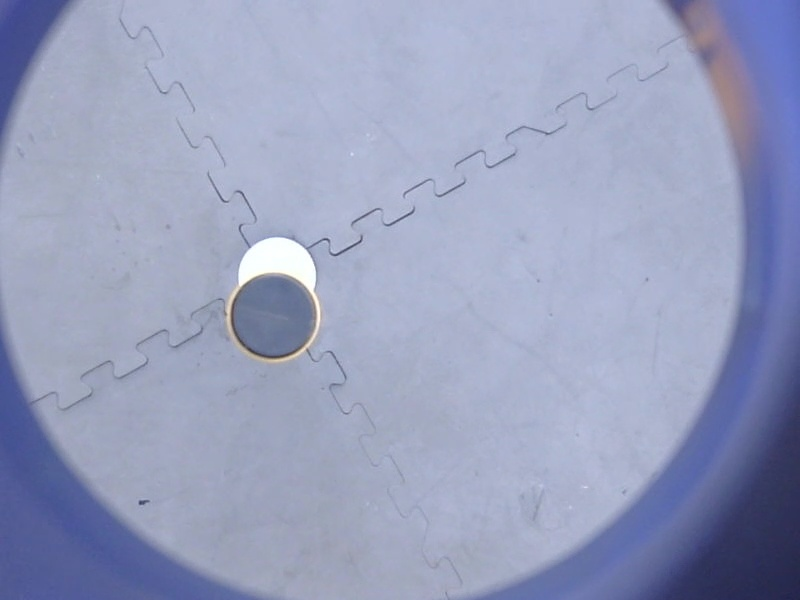tip: (222, 267, 327, 368)
